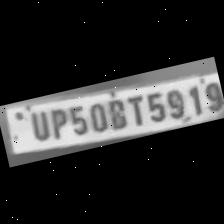0: (83, 97, 110, 136)
1: (181, 80, 207, 118)
5: (63, 101, 91, 139), (140, 88, 168, 124)
9: (160, 83, 188, 122), (198, 77, 224, 115)
B: (103, 94, 130, 132)
P: (44, 105, 70, 140)
T: (122, 91, 148, 128)
U: (23, 108, 53, 144)
